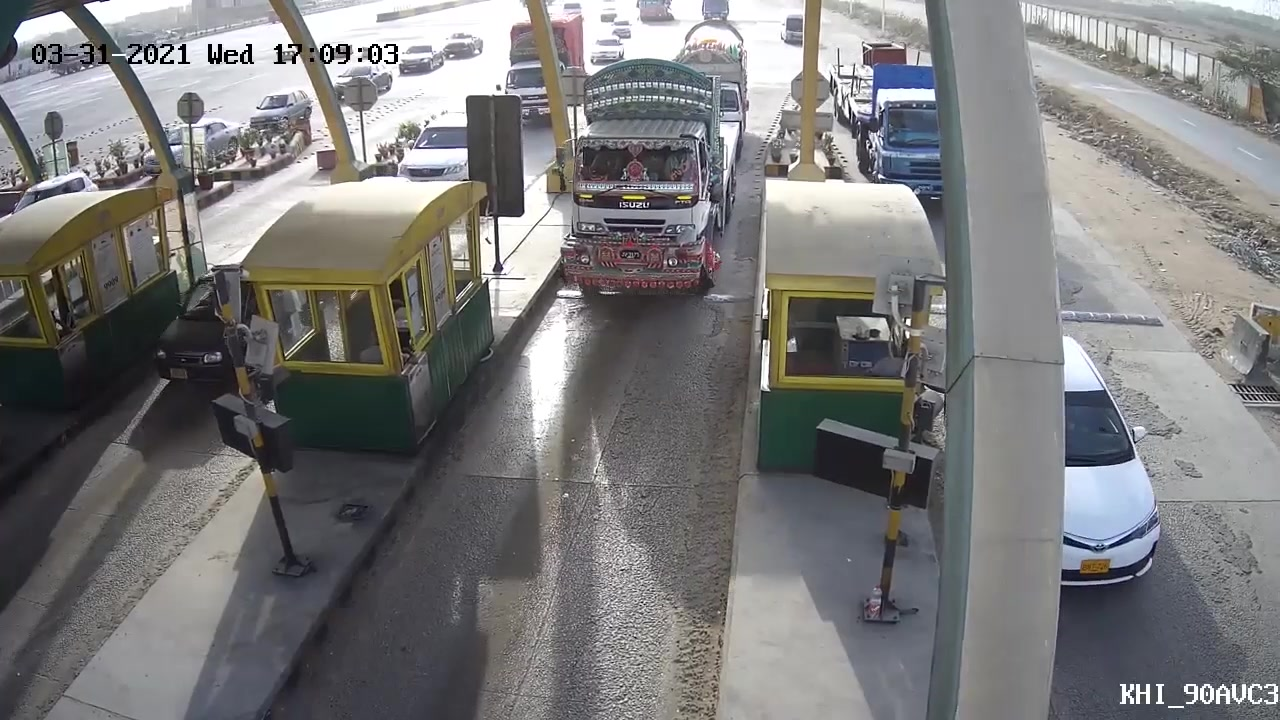F5: (557, 53, 747, 322)
